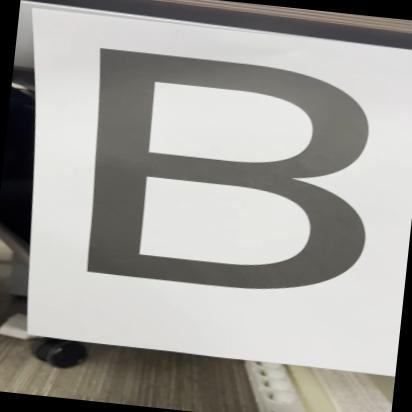seat: (50, 30, 402, 317)
